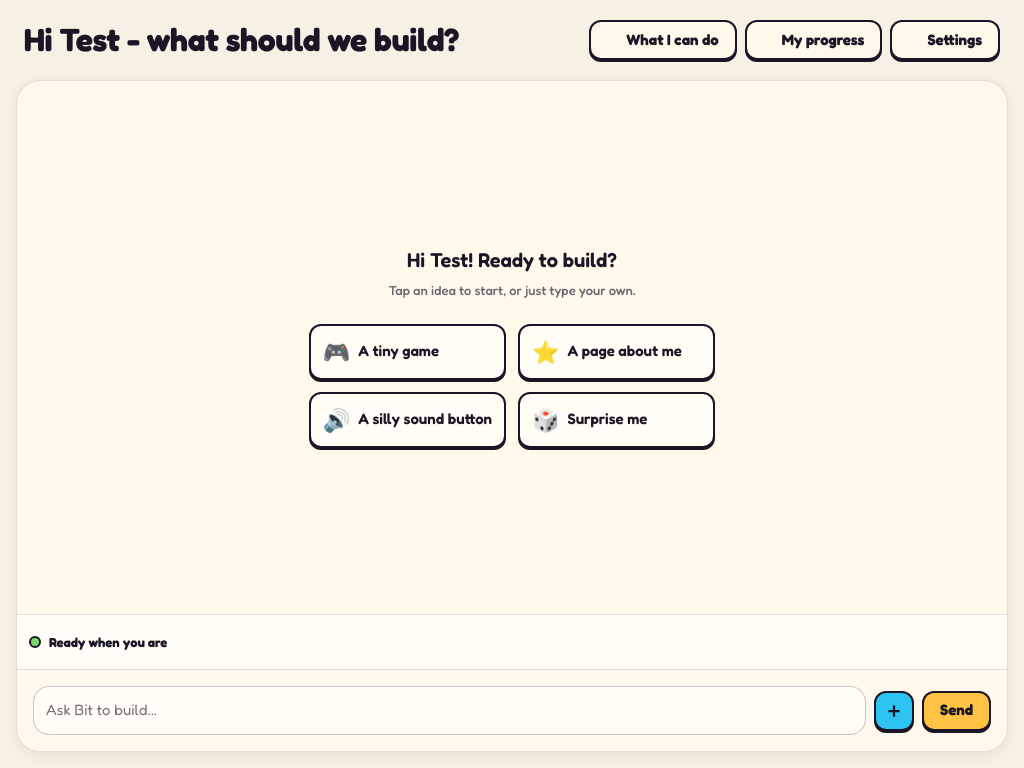
Scenario: ChatWorkspace header › opens Settings as a tabbed overlay with a scrolling content panel
Click the button "Settings". click: [945, 40]
box: 890,20 -> 1000,60
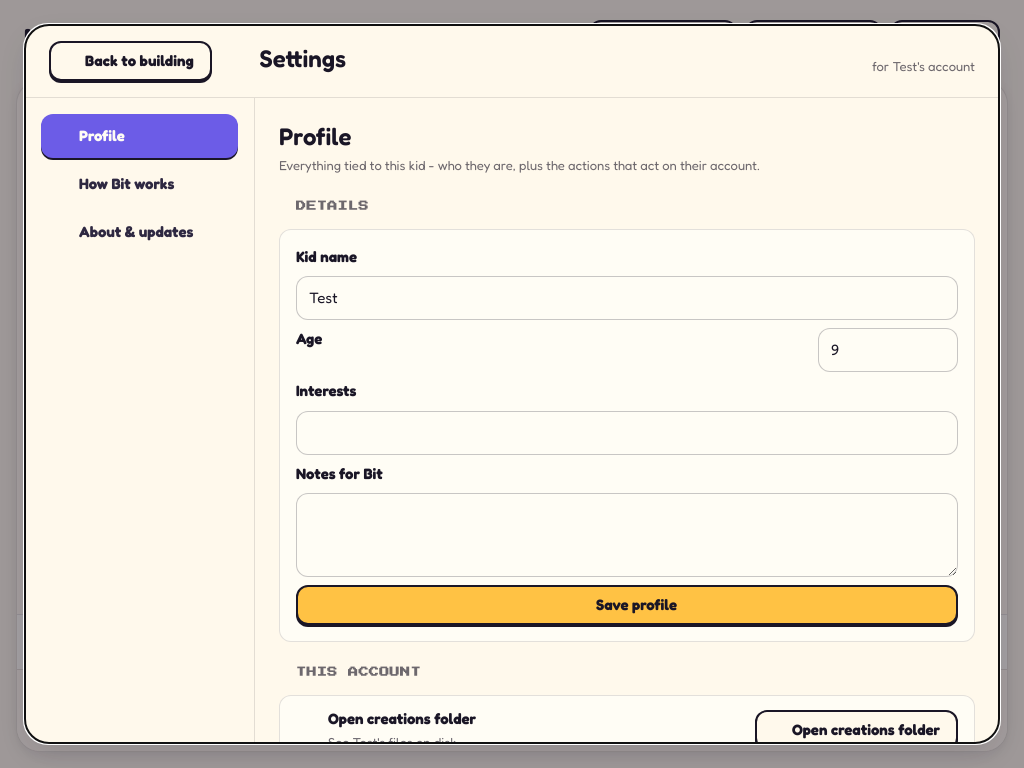
Result: the dialog with class "hb-settings" is shown
Result: the text "Back to building" is shown at 49,41 -> 212,81
Result: the text "Details" is shown at 279,200 -> 369,212
Click the tab "How Bit works". click: [140, 184]
box: 41,162 -> 238,206
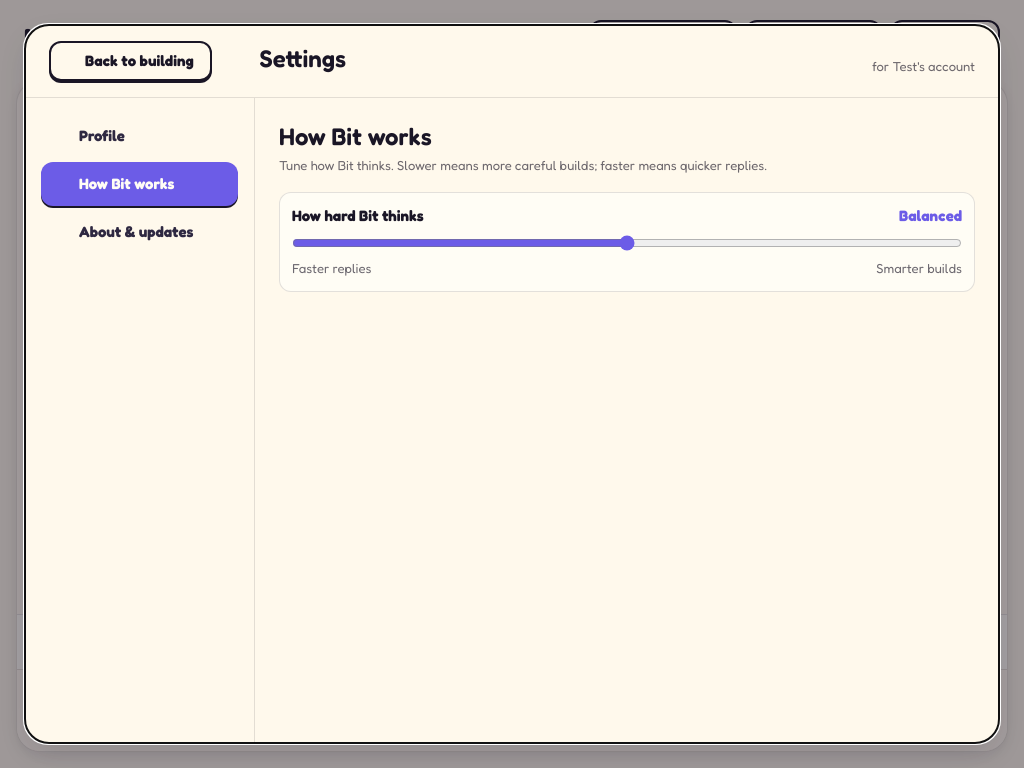
Result: the slider with id "hb-speed-slider" is shown at 292,235 -> 962,251
Click the tab "About & updates". click: [140, 232]
box: 41,210 -> 238,254
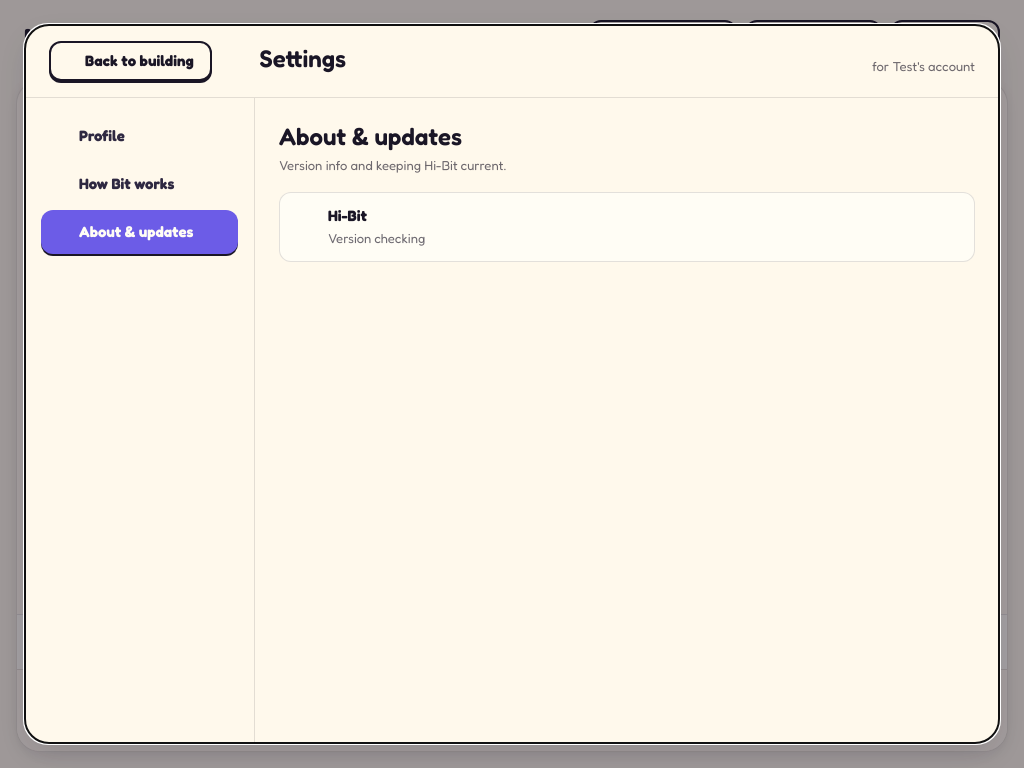
Result: the text "Version" is shown at 279,157 -> 506,173
